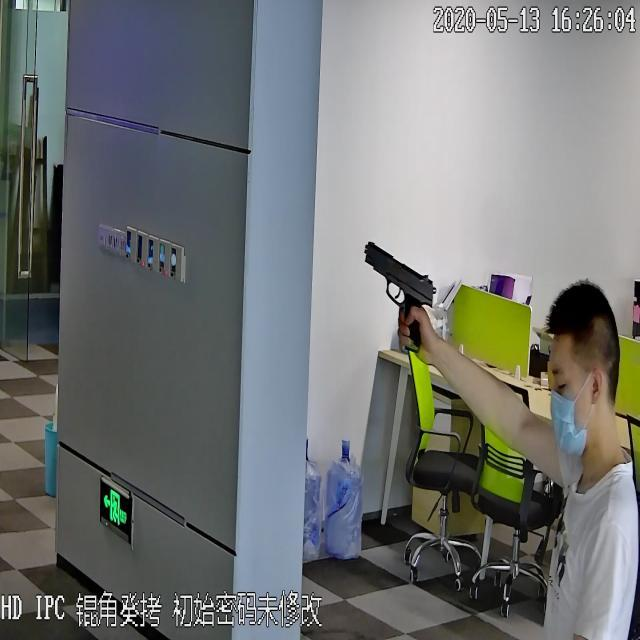gun: (355, 231, 439, 343)
